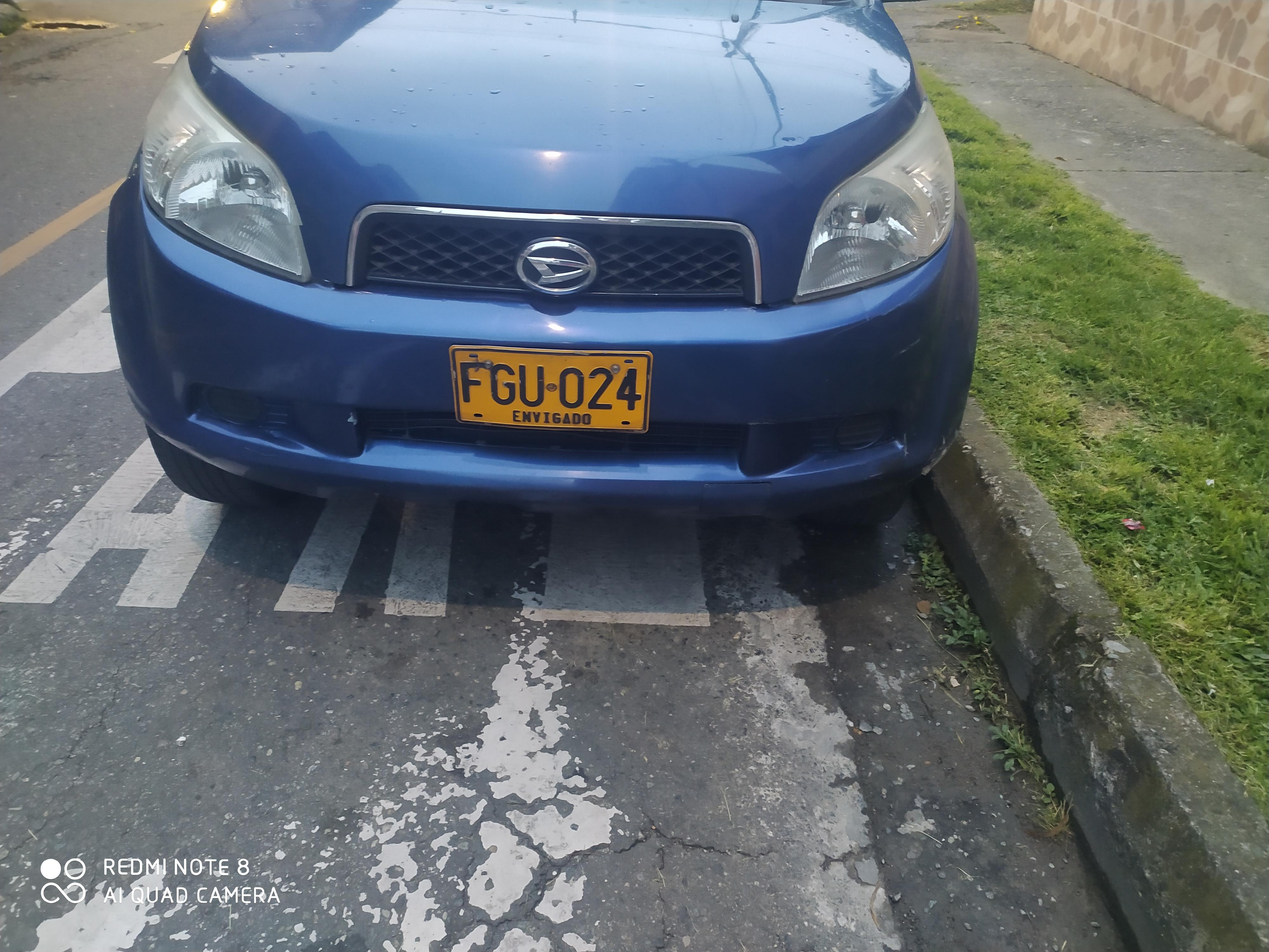placa: (439, 336, 661, 440)
